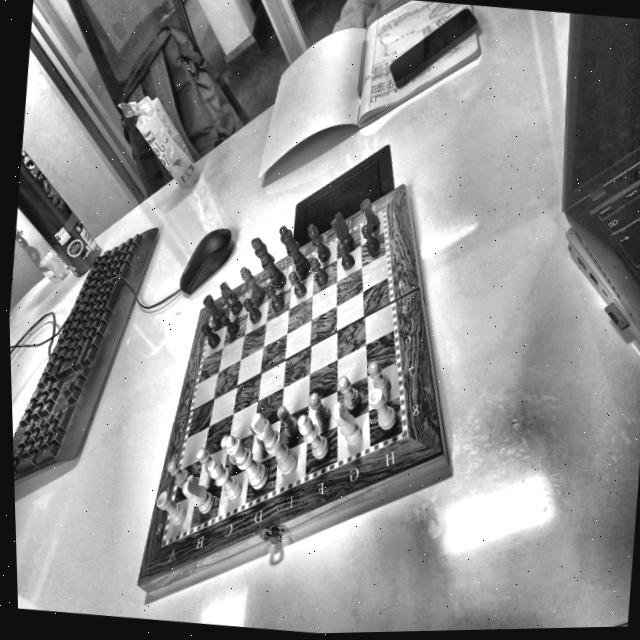black-bishop: (234, 265, 267, 300), (302, 221, 331, 260)
black-king: (245, 234, 288, 290)
black-knight: (326, 208, 355, 248), (217, 277, 241, 312)
black-pawn: (355, 222, 382, 258), (236, 294, 264, 327), (333, 238, 357, 275), (283, 268, 309, 300), (261, 282, 286, 314), (305, 254, 329, 287), (196, 320, 222, 350), (215, 311, 239, 341)
black-queen: (273, 225, 311, 277)
black-rook: (354, 193, 383, 232), (197, 293, 223, 321)
white-bishop: (296, 410, 331, 462), (203, 458, 239, 502)
white-king: (243, 410, 301, 480)
white-knight: (176, 466, 215, 514), (326, 401, 365, 446)
white-pawn: (334, 365, 362, 412), (305, 384, 330, 424), (363, 357, 393, 390), (162, 454, 192, 487), (273, 401, 299, 437), (190, 443, 216, 474)
white-queen: (217, 430, 269, 491)
white-rook: (361, 385, 401, 437), (151, 485, 186, 527)
